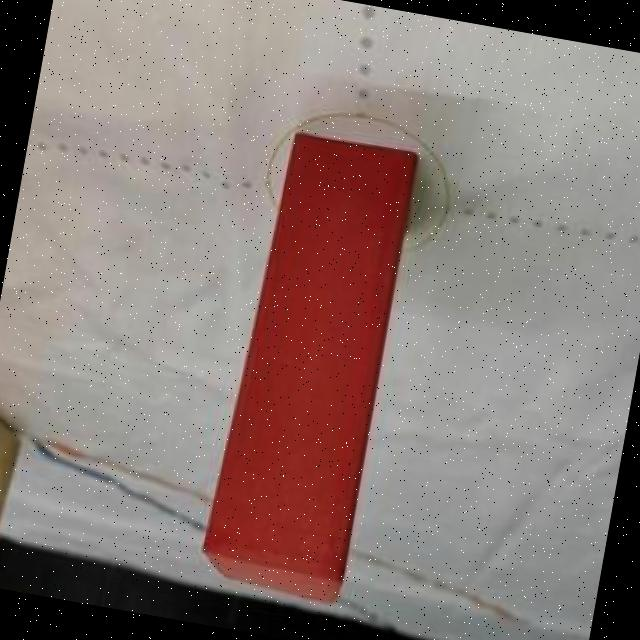redbox: (195, 130, 420, 608)
